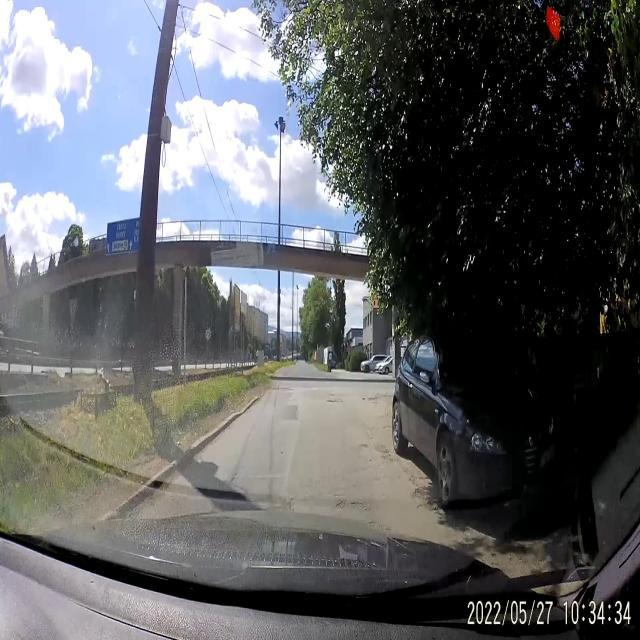Manhole: (337, 497, 368, 512)
Pothole: (374, 438, 396, 468), (325, 396, 345, 406), (294, 400, 300, 428)
